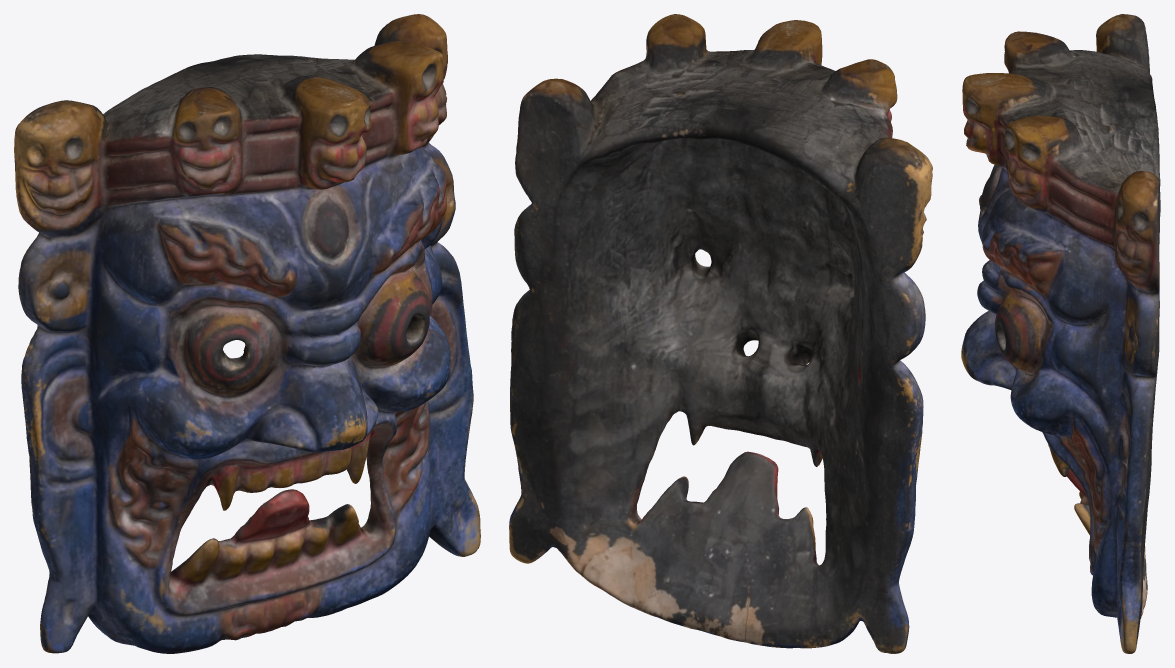
Rendered from sf-nepalese-tribal-mask-916f5a.glb.
3 views of the same model, side by side, from view 1: azimuth 30°, elevation 25°; view 2: azimuth 150°, elevation 25°; view 3: azimuth 270°, elevation 25° (orthographic). The views are drawn at different scales.
Parts seen in each view (by area): view 1: Object_2; view 2: Object_2; view 3: Object_2.
Boxes of the visible parts, <box> form: Object_2: <box>14,14,480,653</box>; Object_2: <box>509,14,932,653</box>; Object_2: <box>961,14,1160,653</box>.
Size of the model in its own units: 1.99 by 2.48 by 0.8856.
1 material, 1 textured.
